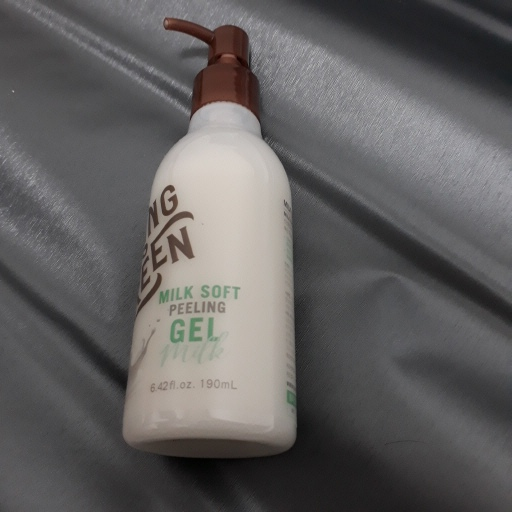Plastic_3: (122, 16, 297, 460)
